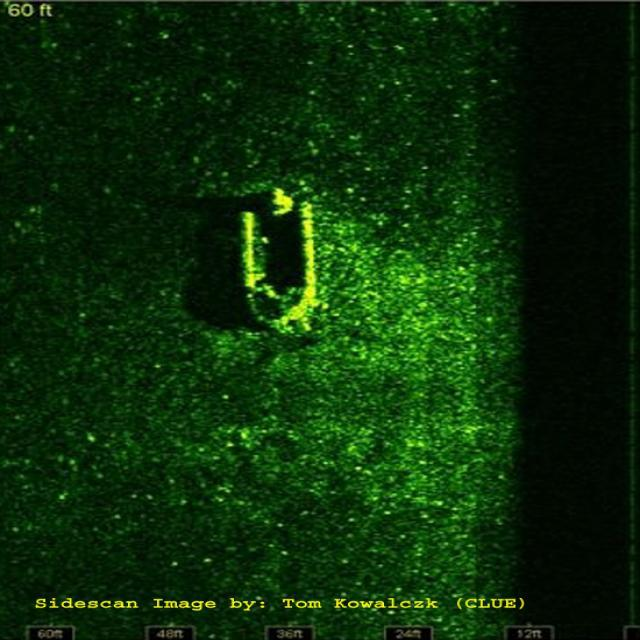shipwreck: (235, 184, 334, 336)
